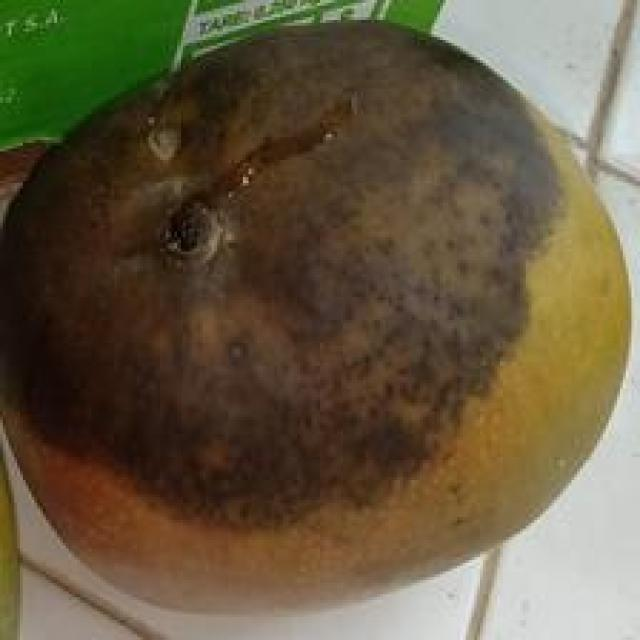Bad_Mango: (0, 22, 628, 611)
